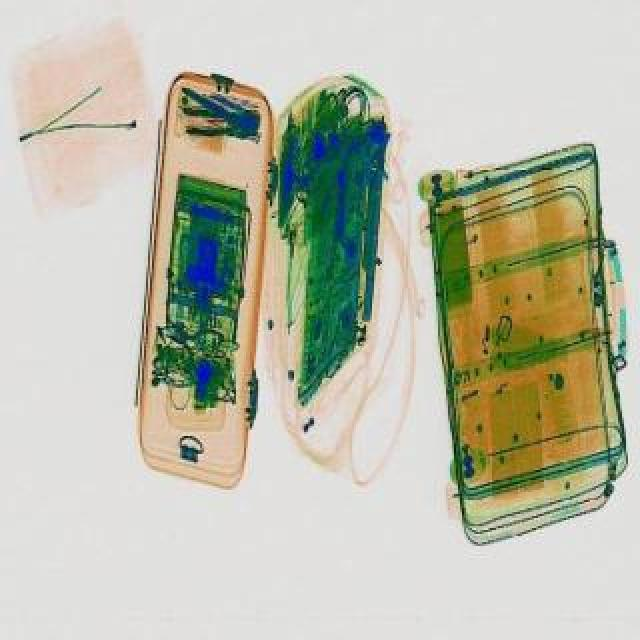wrench: (150, 310, 230, 378), (180, 108, 260, 144)
